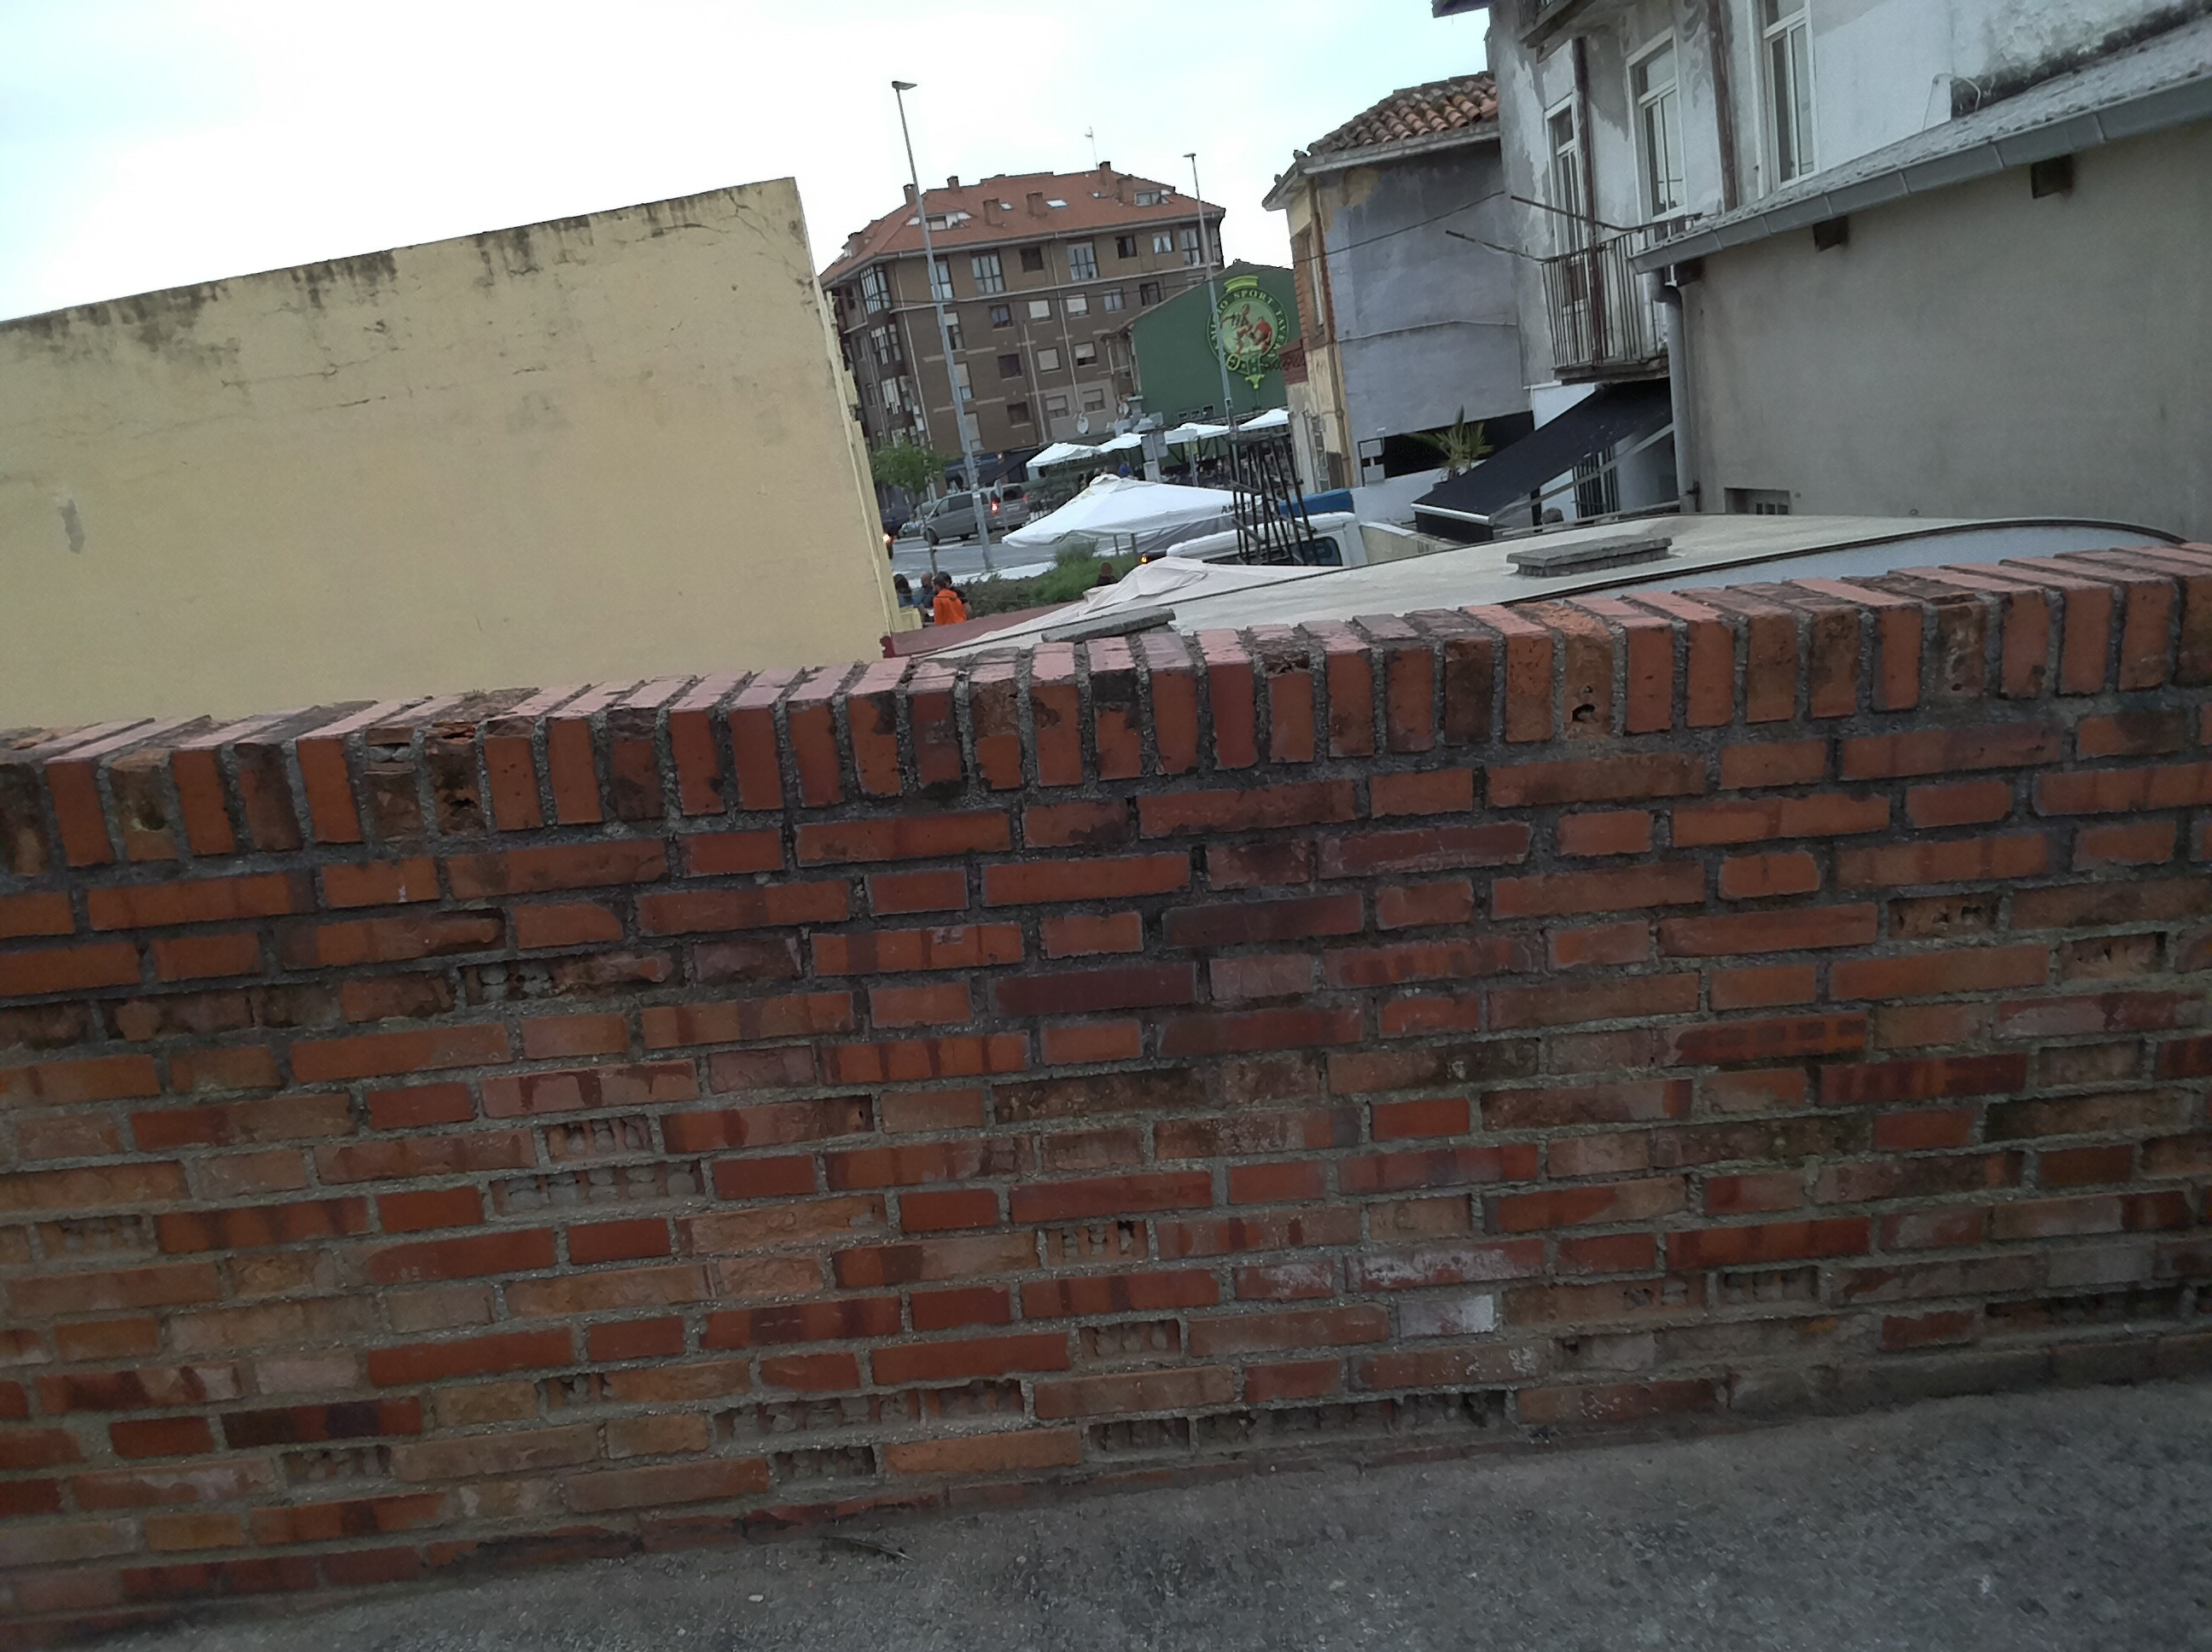Muro: (7, 727, 2212, 1400), (0, 200, 930, 703)
